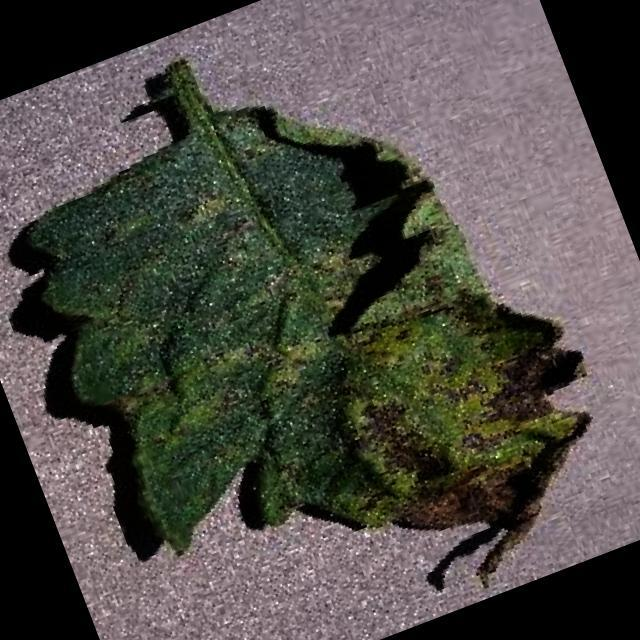Tomato Septoria spot leaf: (0, 23, 637, 640)
